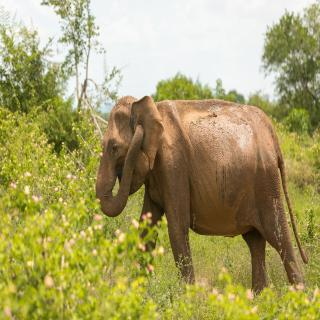Elephant: (96, 92, 309, 298)
